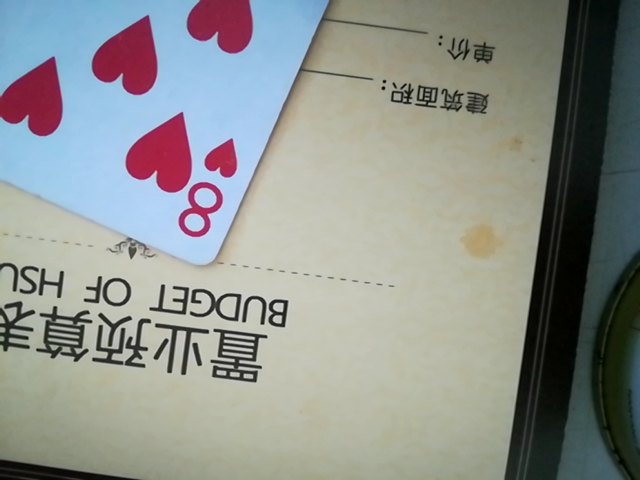hx 8: (6, 0, 386, 269)
